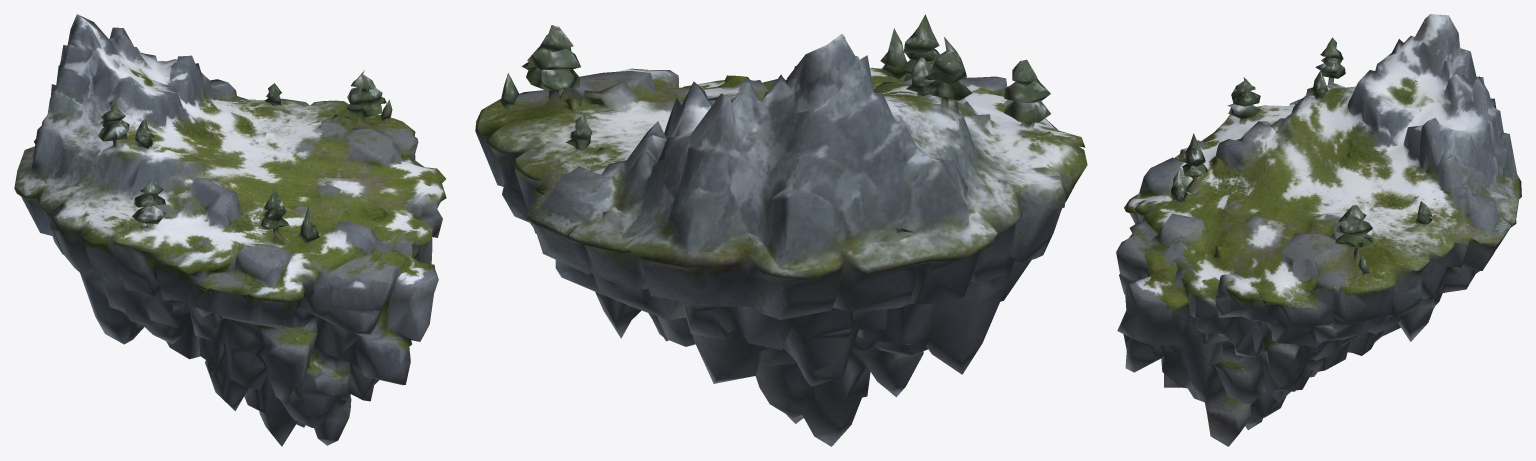
The model's file is island-alpine.glb.
3 views of the same model, side by side, from view 1: azimuth 30°, elevation 25°; view 2: azimuth 150°, elevation 25°; view 3: azimuth 270°, elevation 25° (orthographic). The views are drawn at different scales.
Parts seen in each view (by area): view 1: tripo_node_e8ca4bb9-8a00-4fad-9be9-7432eea427ae; view 2: tripo_node_e8ca4bb9-8a00-4fad-9be9-7432eea427ae; view 3: tripo_node_e8ca4bb9-8a00-4fad-9be9-7432eea427ae.
Part boxes in pixels (left/top/right/bottom): tripo_node_e8ca4bb9-8a00-4fad-9be9-7432eea427ae: left=14, top=14, right=446, bottom=446; tripo_node_e8ca4bb9-8a00-4fad-9be9-7432eea427ae: left=475, top=14, right=1087, bottom=446; tripo_node_e8ca4bb9-8a00-4fad-9be9-7432eea427ae: left=1116, top=14, right=1521, bottom=446.
Bounding box in the file's own units: 1 × 0.9548 × 0.9529.
Materials: 1 (1 with a texture image).
